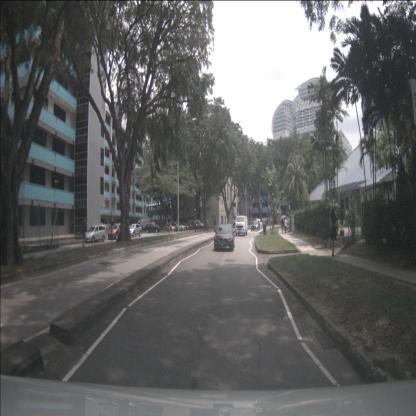human-pedestrian-adult: (330, 208, 338, 257), (81, 218, 87, 248), (284, 217, 287, 234), (282, 218, 284, 234), (280, 219, 282, 234), (207, 217, 209, 229), (213, 219, 215, 228), (214, 219, 216, 228), (267, 218, 269, 224), (266, 218, 267, 225)
vehicle-car: (214, 223, 234, 251), (84, 225, 106, 244), (107, 222, 128, 240), (235, 215, 248, 236), (128, 223, 141, 237), (144, 223, 160, 233), (187, 219, 204, 228), (250, 220, 260, 231), (170, 222, 182, 231), (165, 223, 177, 232), (188, 221, 200, 229), (174, 223, 186, 231), (254, 219, 263, 229), (182, 222, 193, 230), (179, 223, 190, 230)
vehicle-truck: (137, 218, 150, 231)
